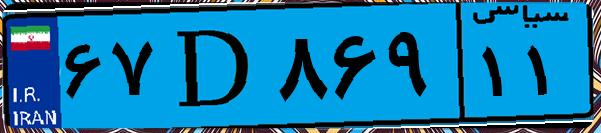1: (475, 38, 525, 113), (525, 38, 570, 115)
6: (330, 28, 385, 110), (57, 26, 110, 100)
7: (110, 28, 158, 98)
8: (270, 28, 330, 110)
9: (385, 28, 445, 110)
D: (158, 12, 270, 120)
